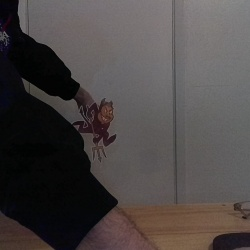sparky: (70, 96, 116, 162)
